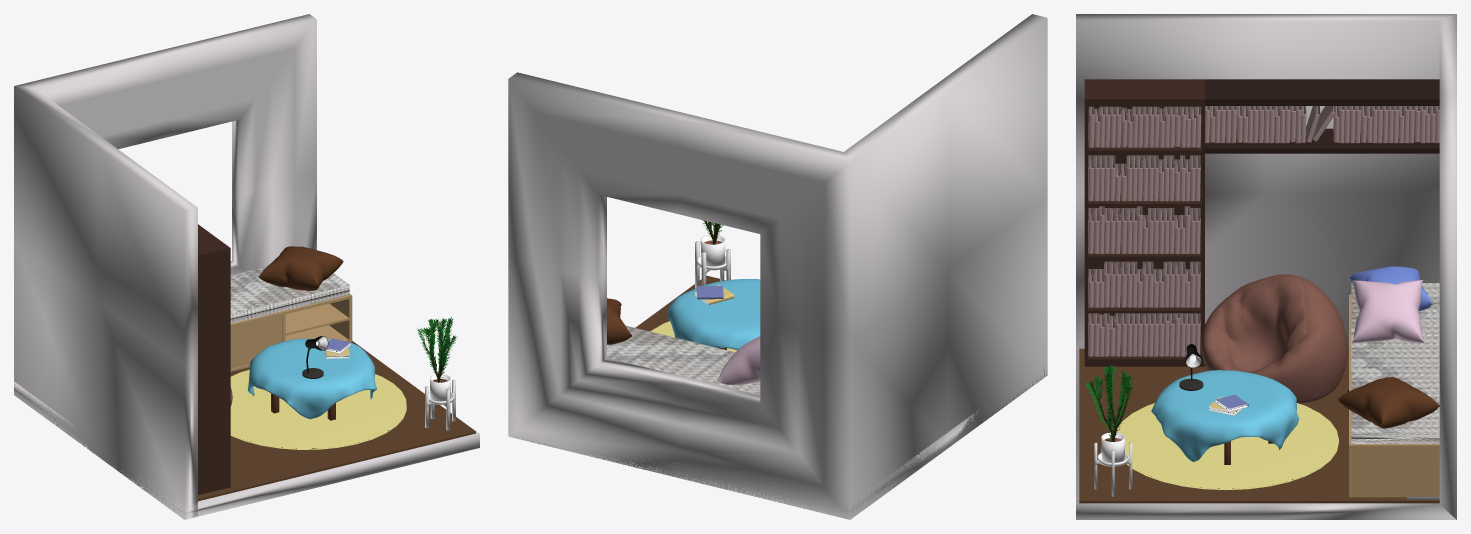
Rendered from bann.glb.
The picture shows the model from 3 angles, left to right: view 1: azimuth 30°, elevation 25°; view 2: azimuth 150°, elevation 25°; view 3: azimuth 270°, elevation 25°; orthographic projection. The views are drawn at different scales.
Parts seen in each view (by area): view 1: Cube, Cube.004, Cube.001, Cylinder.003, Retopo_Plane.003, Cube.003, Cube.005, Retopo_Plane.004, กระถางง; view 2: Cube, Retopo_Plane.003, Cube.005, กระถางง, Retopo_Plane.005, Retopo_Plane.004; view 3: Cube, Cube.001, Retopo_Cube.012, Cube.004, Cylinder.003, Retopo_Plane.003, Cube.005, Cube.006, Cube.003, Retopo_Plane.005, Retopo_Plane.004, Cube.007 (+3 smaller).
Boxes of the visible parts, x1,y1,x2,y2 form: Cube: (14,14,479,519); Cube.004: (198,224,230,495); Cube.001: (198,341,475,501); Cylinder.003: (230,369,406,449); Retopo_Plane.003: (247,338,376,419); Cube.003: (230,294,352,371); Cube.005: (230,266,349,323); Retopo_Plane.004: (258,246,343,290); กระถางง: (417,317,457,430); Cube: (508,14,1047,519); Retopo_Plane.003: (667,279,760,350); Cube.005: (607,325,760,395); กระถางง: (695,220,730,288); Retopo_Plane.005: (718,336,760,385); Retopo_Plane.004: (607,298,631,344); Cube: (1076,14,1456,519); Cube.001: (1079,348,1439,503); Retopo_Cube.012: (1201,274,1347,403); Cube.004: (1084,79,1204,366); Cylinder.003: (1116,403,1338,490); Retopo_Plane.003: (1151,370,1298,461); Cube.005: (1351,283,1439,443); Cube.006: (1205,79,1439,105); Cube.003: (1349,294,1439,497); Retopo_Plane.005: (1352,279,1424,343); Retopo_Plane.004: (1338,377,1439,428); Cube.007: (1204,128,1439,153).
Bounding box in the file's own units: 2.01 × 2 × 2.
Materials: 29 (1 with a texture image).
